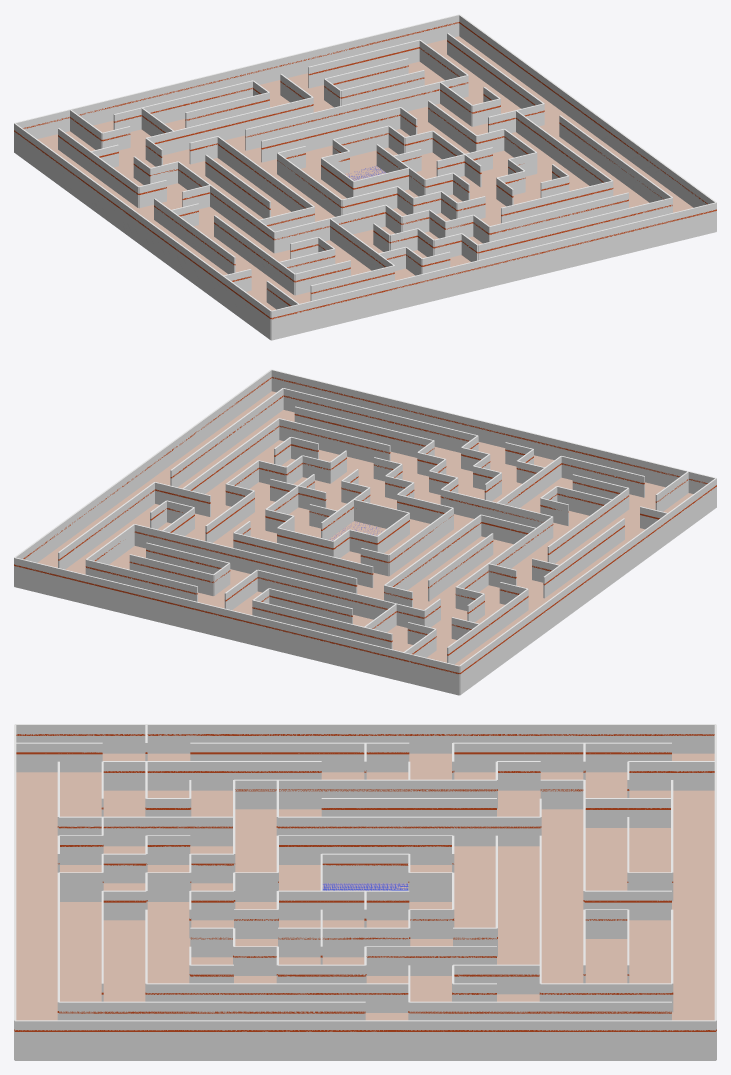
File: maze2.dae
3 views of the same model, one above another, from view 1: azimuth 30°, elevation 25°; view 2: azimuth 150°, elevation 25°; view 3: azimuth 270°, elevation 25° (orthographic). The views are drawn at different scales.
Parts seen in each view (by area): view 1: Cube, 0, Cube.001; view 2: Cube, 0, Cube.001; view 3: Cube, 0, Cube.001, 0.001.
Boxes of the visible parts, left/top/right/bottom form: Cube: left=14, top=14, right=716, bottom=340; 0: left=37, top=36, right=693, bottom=310; Cube.001: left=14, top=22, right=716, bottom=319; Cube: left=14, top=369, right=716, bottom=695; 0: left=37, top=391, right=693, bottom=665; Cube.001: left=14, top=377, right=716, bottom=673; Cube: left=14, top=724, right=716, bottom=1060; 0: left=16, top=753, right=714, bottom=1020; Cube.001: left=14, top=734, right=716, bottom=1031; 0.001: left=322, top=883, right=408, bottom=890.
Bounding box in the file's own units: 32.1 × 32.1 × 2.
